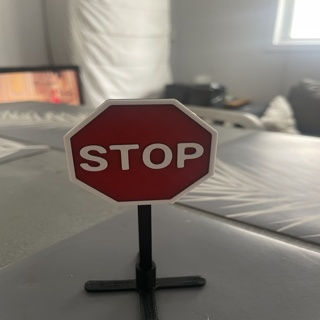sign_stop: (61, 90, 214, 209)
